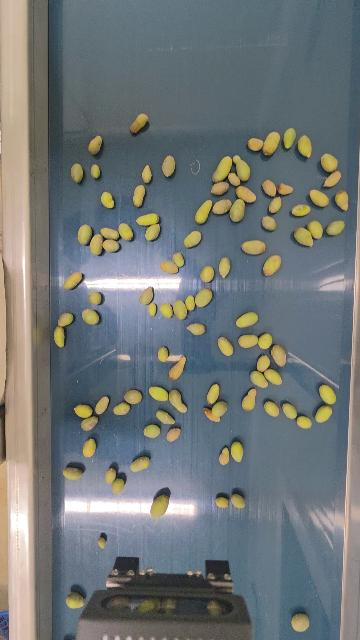Baby Potato: (212, 155, 233, 183), (168, 388, 188, 414), (240, 238, 267, 257), (262, 130, 281, 157), (195, 199, 213, 226), (233, 155, 251, 182), (293, 225, 314, 248), (168, 355, 186, 381), (129, 112, 149, 135), (308, 188, 331, 208), (150, 494, 169, 518), (263, 253, 282, 277), (291, 611, 312, 632), (236, 310, 259, 329), (318, 383, 337, 406), (230, 198, 247, 223), (271, 343, 288, 368), (241, 387, 258, 412), (249, 369, 269, 390), (204, 401, 224, 422), (235, 185, 257, 204), (205, 598, 227, 617), (297, 134, 314, 158), (63, 271, 83, 291), (194, 288, 213, 309), (320, 152, 339, 173), (172, 297, 188, 321), (130, 455, 151, 473), (306, 219, 324, 240), (217, 335, 234, 357), (77, 223, 93, 246), (334, 189, 350, 212), (264, 367, 283, 386), (155, 408, 176, 425), (211, 198, 232, 215), (238, 333, 260, 349), (62, 466, 84, 482), (206, 382, 221, 405), (161, 154, 176, 177), (323, 170, 342, 188), (183, 230, 201, 249), (315, 404, 333, 423), (65, 592, 85, 609), (326, 219, 346, 236), (132, 184, 146, 208), (136, 212, 160, 226), (89, 234, 104, 256), (124, 388, 143, 405), (281, 401, 298, 420), (81, 308, 100, 325), (80, 414, 99, 431), (230, 440, 244, 463), (283, 126, 297, 149), (118, 222, 134, 242), (148, 385, 168, 401), (73, 403, 94, 418), (70, 162, 85, 183), (263, 400, 280, 418), (212, 400, 228, 419), (256, 353, 271, 373), (88, 135, 103, 155), (53, 326, 66, 349), (218, 256, 231, 279), (82, 437, 96, 458), (144, 223, 160, 241), (261, 179, 277, 197), (268, 195, 283, 214), (95, 395, 109, 415), (291, 203, 311, 217), (210, 181, 230, 195), (143, 423, 161, 438), (258, 332, 273, 350), (102, 238, 120, 253), (187, 322, 206, 336), (160, 260, 179, 274), (139, 286, 153, 305), (57, 311, 73, 327), (165, 426, 181, 442), (261, 215, 277, 231), (296, 414, 313, 429), (113, 401, 130, 416), (100, 191, 114, 209), (100, 227, 119, 240), (203, 406, 218, 422), (231, 493, 246, 509), (159, 302, 174, 318), (277, 182, 294, 196), (200, 265, 214, 282), (247, 137, 264, 151), (219, 446, 231, 465), (112, 477, 125, 494), (88, 291, 102, 306), (141, 164, 152, 183), (104, 468, 117, 484), (215, 495, 230, 508), (157, 346, 169, 362), (172, 251, 184, 267), (185, 294, 195, 313), (90, 163, 101, 179), (147, 303, 157, 317), (97, 536, 105, 549)
